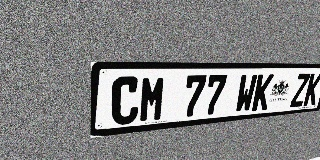7: (181, 75, 207, 119), (202, 75, 227, 116)
C: (111, 76, 140, 126)
K: (251, 74, 274, 111), (303, 73, 320, 106)
M: (138, 76, 167, 123)
W: (234, 74, 258, 113)
Z: (290, 73, 311, 107)
